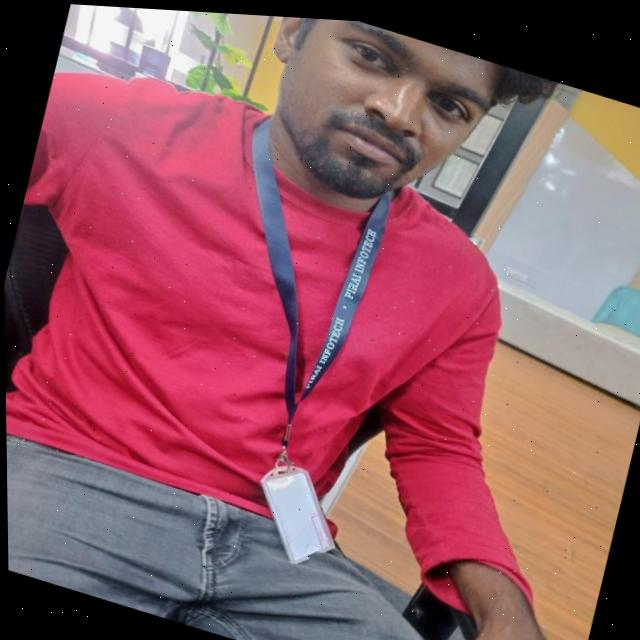id_card: (149, 90, 442, 581)
